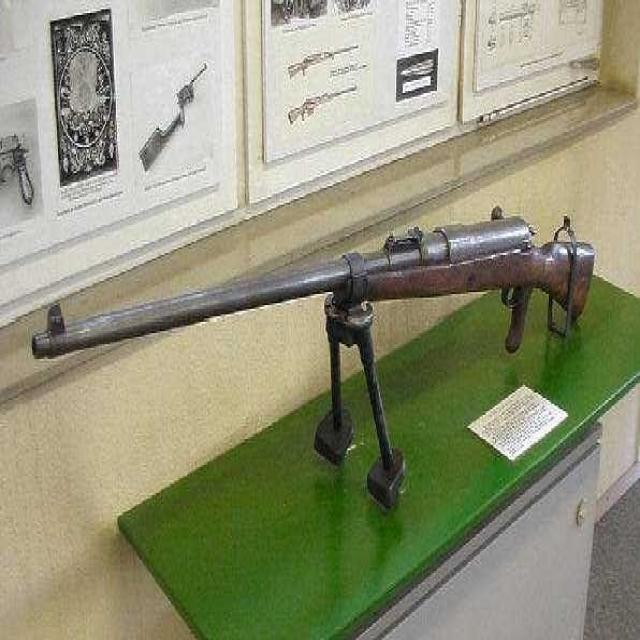Rifle: (21, 132, 606, 437)
